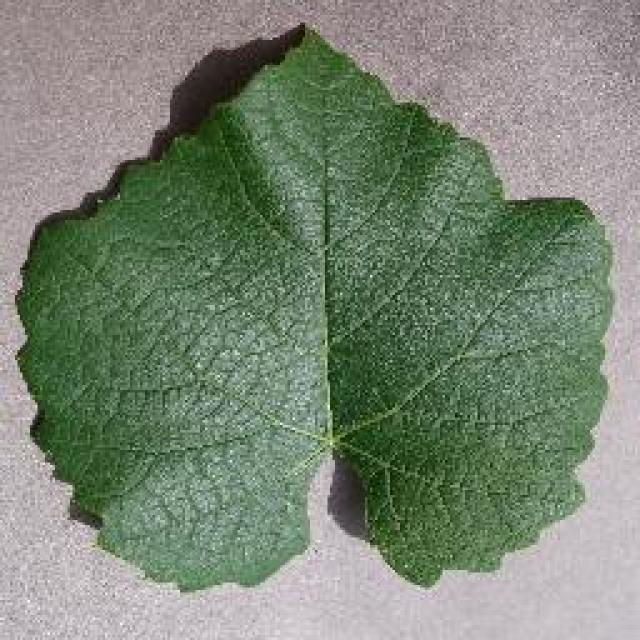Healthy: (9, 17, 612, 583)
